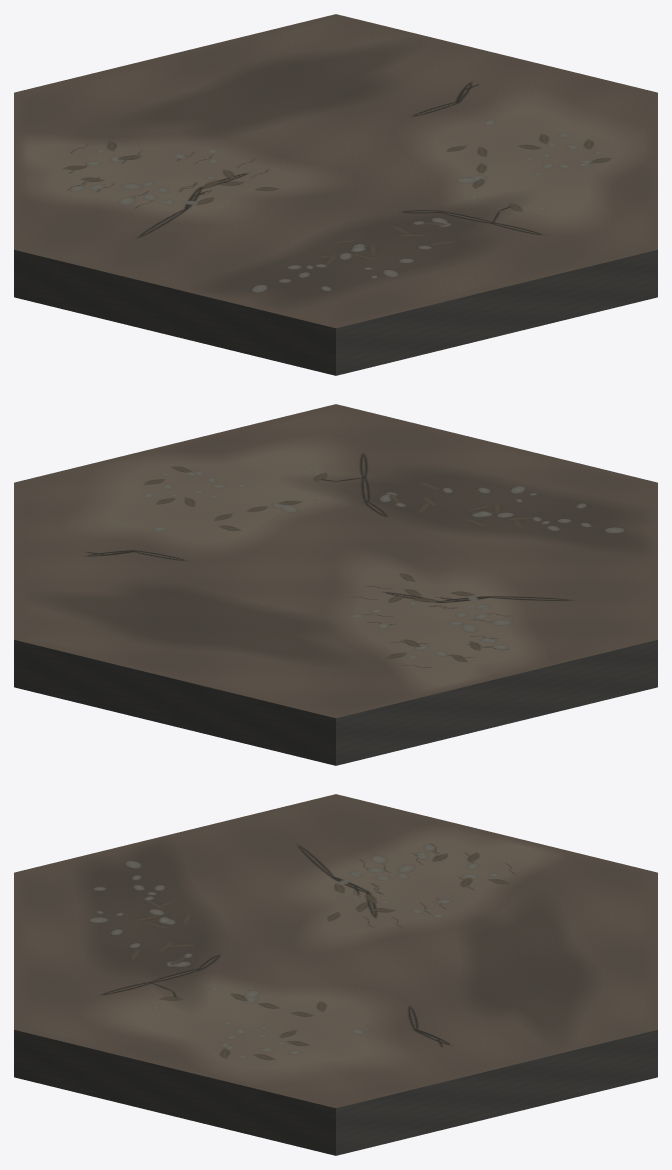
The model's file is hex_ground_dirt.glb.
The picture shows the model from 3 angles, top to bottom: view 1: azimuth 30°, elevation 25°; view 2: azimuth 150°, elevation 25°; view 3: azimuth 270°, elevation 25°; orthographic projection.
Parts seen in each view (by area): view 1: Painted occupation surface, Canonical hex foundation; view 2: Painted occupation surface, Canonical hex foundation; view 3: Painted occupation surface, Canonical hex foundation.
Boxes of the visible parts, box(x1,y1,x2,y2) form: Painted occupation surface: box(14, 14, 657, 328); Canonical hex foundation: box(14, 250, 657, 375); Painted occupation surface: box(14, 404, 657, 718); Canonical hex foundation: box(14, 640, 657, 765); Painted occupation surface: box(14, 794, 657, 1108); Canonical hex foundation: box(14, 1030, 657, 1155).
Size of the model in its own units: 5.1 by 0.36 by 4.42.
2 materials, 2 textured.
